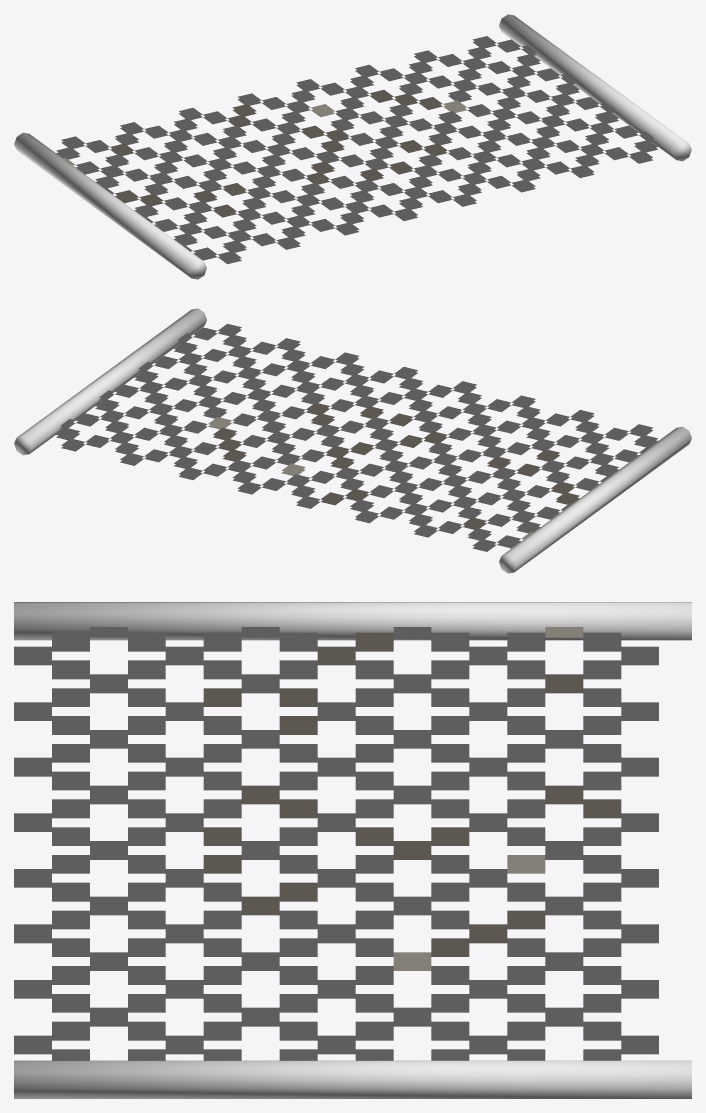
File: Fence.fbx
The picture shows the model from 3 angles, top to bottom: view 1: azimuth 30°, elevation 25°; view 2: azimuth 150°, elevation 25°; view 3: azimuth 270°, elevation 25°; orthographic projection. The views are drawn at different scales.
Visible parts, largest first — view 1: mesh_fence; view 2: mesh_fence; view 3: mesh_fence.
Boxes of the visible parts, <box> form: mesh_fence: <box>14,14,691,279</box>; mesh_fence: <box>14,308,691,573</box>; mesh_fence: <box>14,602,691,1098</box>.
Bounding box in the file's own units: 622 × 22.5 × 375.
